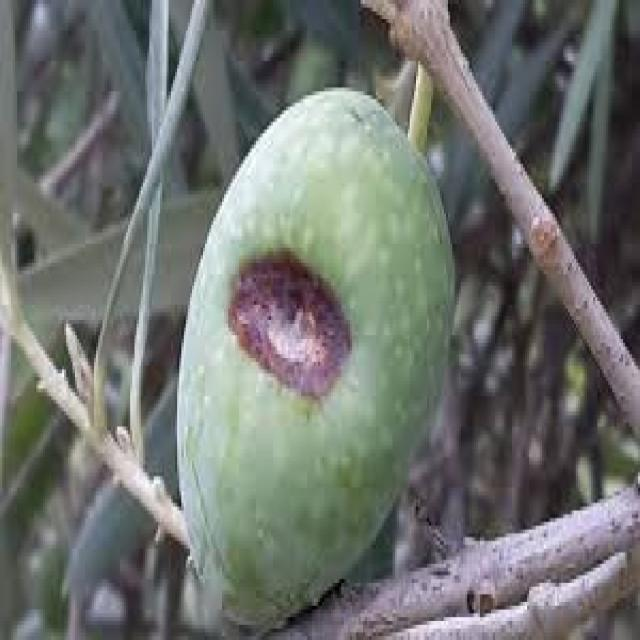Anthracnose: (178, 88, 454, 635)
